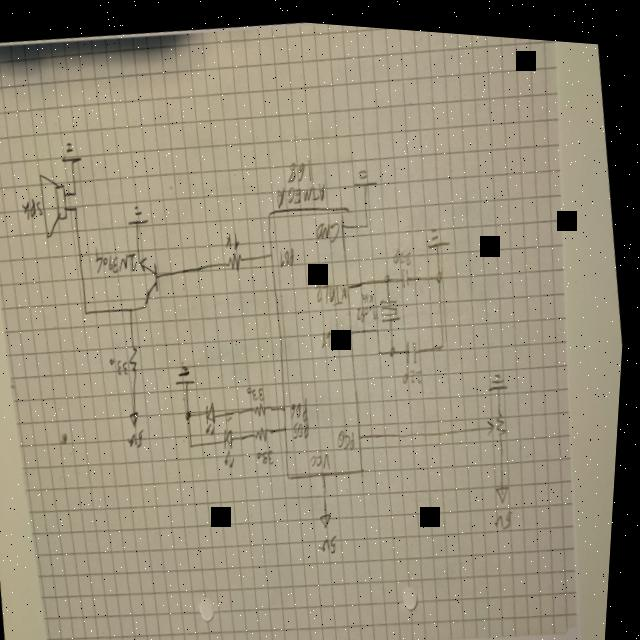capacitor: (406, 332, 423, 360), (402, 263, 414, 283)
diode: (225, 422, 242, 464), (206, 398, 223, 434)
ground: (59, 138, 86, 168), (426, 218, 454, 244), (352, 160, 380, 184), (127, 200, 152, 226), (177, 358, 200, 385), (489, 363, 513, 387)
junction: (436, 264, 447, 278), (188, 406, 198, 420), (391, 339, 401, 352), (386, 267, 395, 280), (365, 214, 373, 225), (73, 187, 80, 199), (74, 203, 81, 213), (193, 438, 200, 448), (380, 341, 386, 352), (443, 335, 449, 345), (87, 307, 92, 316), (131, 304, 137, 311)
resistor: (488, 400, 514, 433), (227, 245, 247, 270), (257, 419, 278, 440), (131, 343, 144, 371), (254, 396, 272, 415)
source: (499, 475, 517, 498), (323, 506, 339, 525), (132, 407, 145, 427)
text: (276, 174, 330, 208), (95, 239, 142, 277), (314, 274, 352, 304), (356, 285, 384, 319), (322, 319, 355, 346), (286, 152, 315, 182), (316, 213, 345, 240), (21, 194, 47, 223), (279, 240, 300, 266), (130, 425, 152, 449), (498, 500, 520, 524), (111, 352, 133, 376), (340, 422, 361, 447), (314, 445, 337, 467), (323, 528, 345, 551), (404, 356, 427, 378), (394, 240, 416, 261), (293, 395, 313, 418), (225, 225, 244, 249), (249, 380, 270, 400), (260, 443, 280, 462), (297, 416, 314, 436)
transistor: (138, 251, 166, 309)
